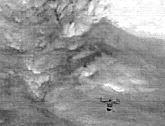Target: (99, 97, 121, 111)
